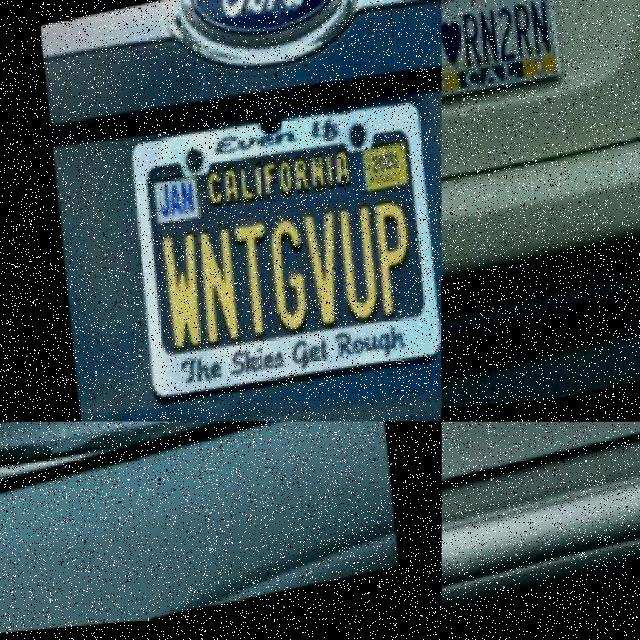licenseplate: (125, 87, 442, 416), (442, 421, 622, 554), (442, 0, 566, 106), (35, 422, 157, 483)
